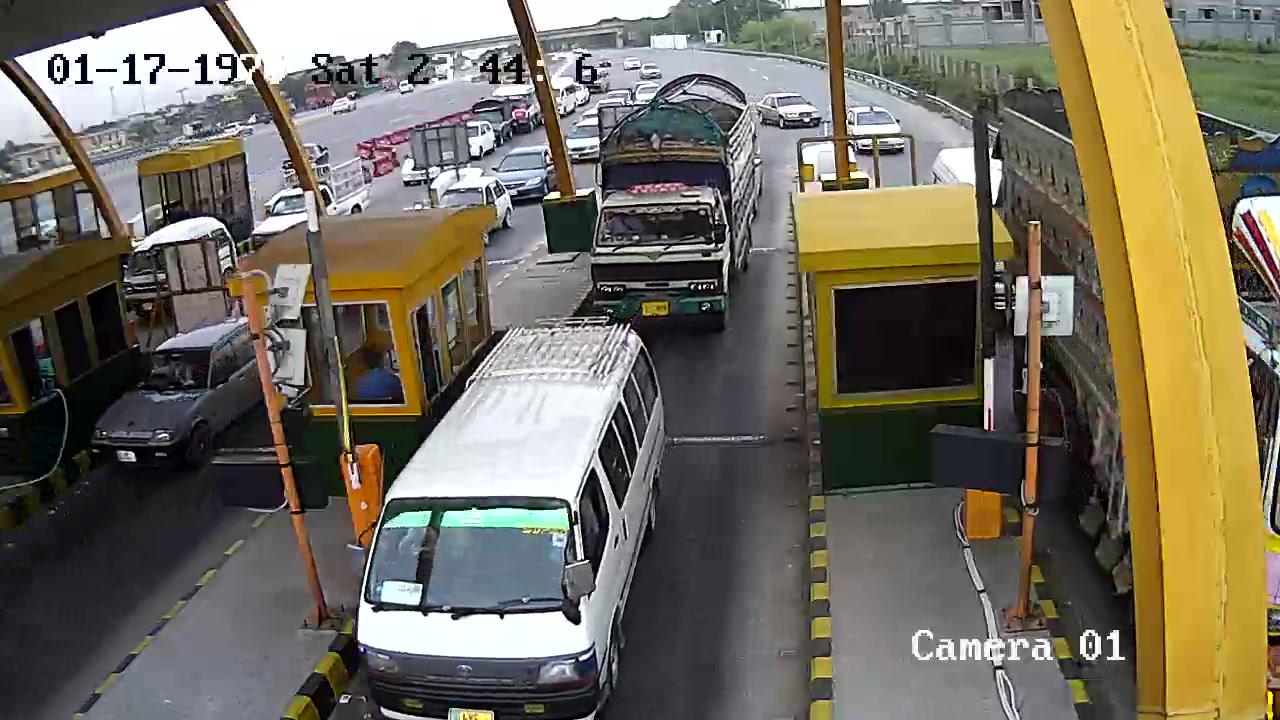F2: (360, 323, 689, 716)
